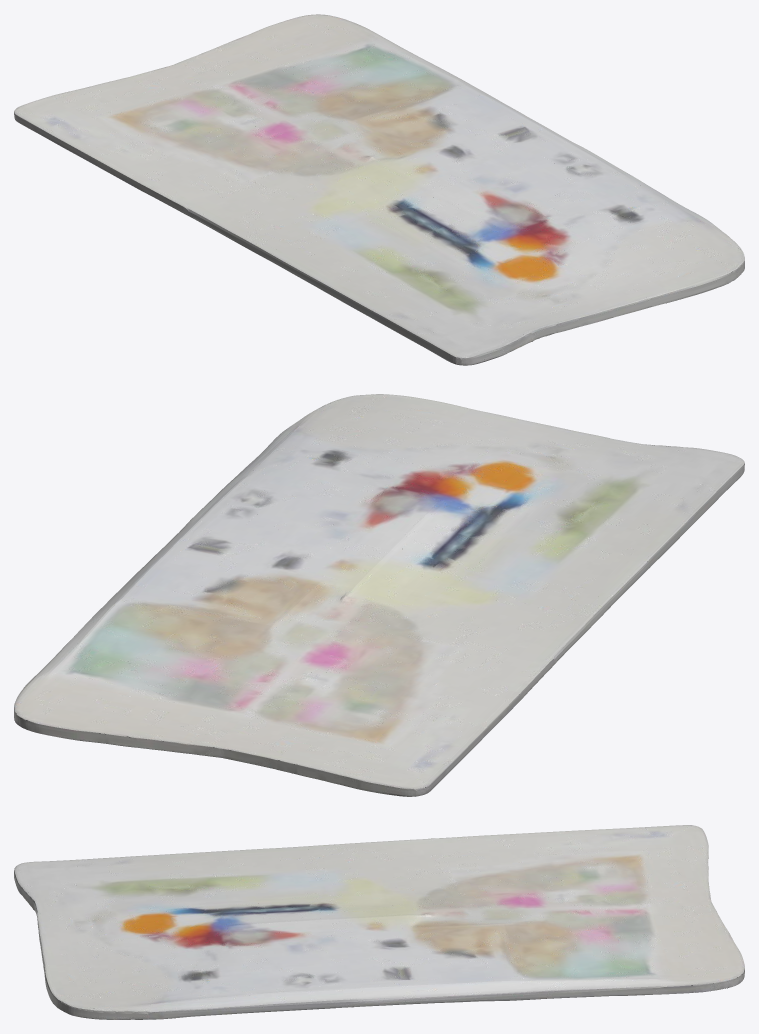
Rendered from magazine_on_the_table_000.glb.
3 renders of one model, top to bottom at view 1: azimuth 30°, elevation 25°; view 2: azimuth 150°, elevation 25°; view 3: azimuth 270°, elevation 25°, orthographic. The views are drawn at different scales.
Visible parts, largest first — view 1: phase2_final_magazine_on_the_table_000.obj; view 2: phase2_final_magazine_on_the_table_000.obj; view 3: phase2_final_magazine_on_the_table_000.obj.
Boxes of the visible parts, x1,y1,x2,y2 form: phase2_final_magazine_on_the_table_000.obj: (14,14,744,365); phase2_final_magazine_on_the_table_000.obj: (14,394,744,796); phase2_final_magazine_on_the_table_000.obj: (14,825,744,1019).
Size of the model in its own units: 0.2414 by 0.0114 by 0.3985.
Materials: 1 (1 with a texture image).
